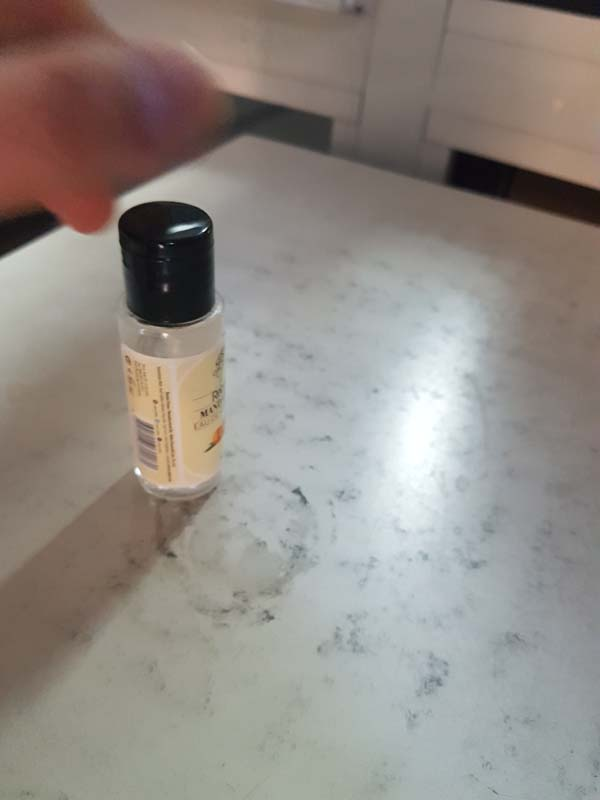redbulkolonya: (114, 198, 229, 505)
